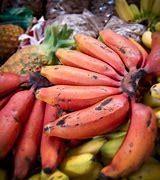banana: (46, 30, 160, 147)
